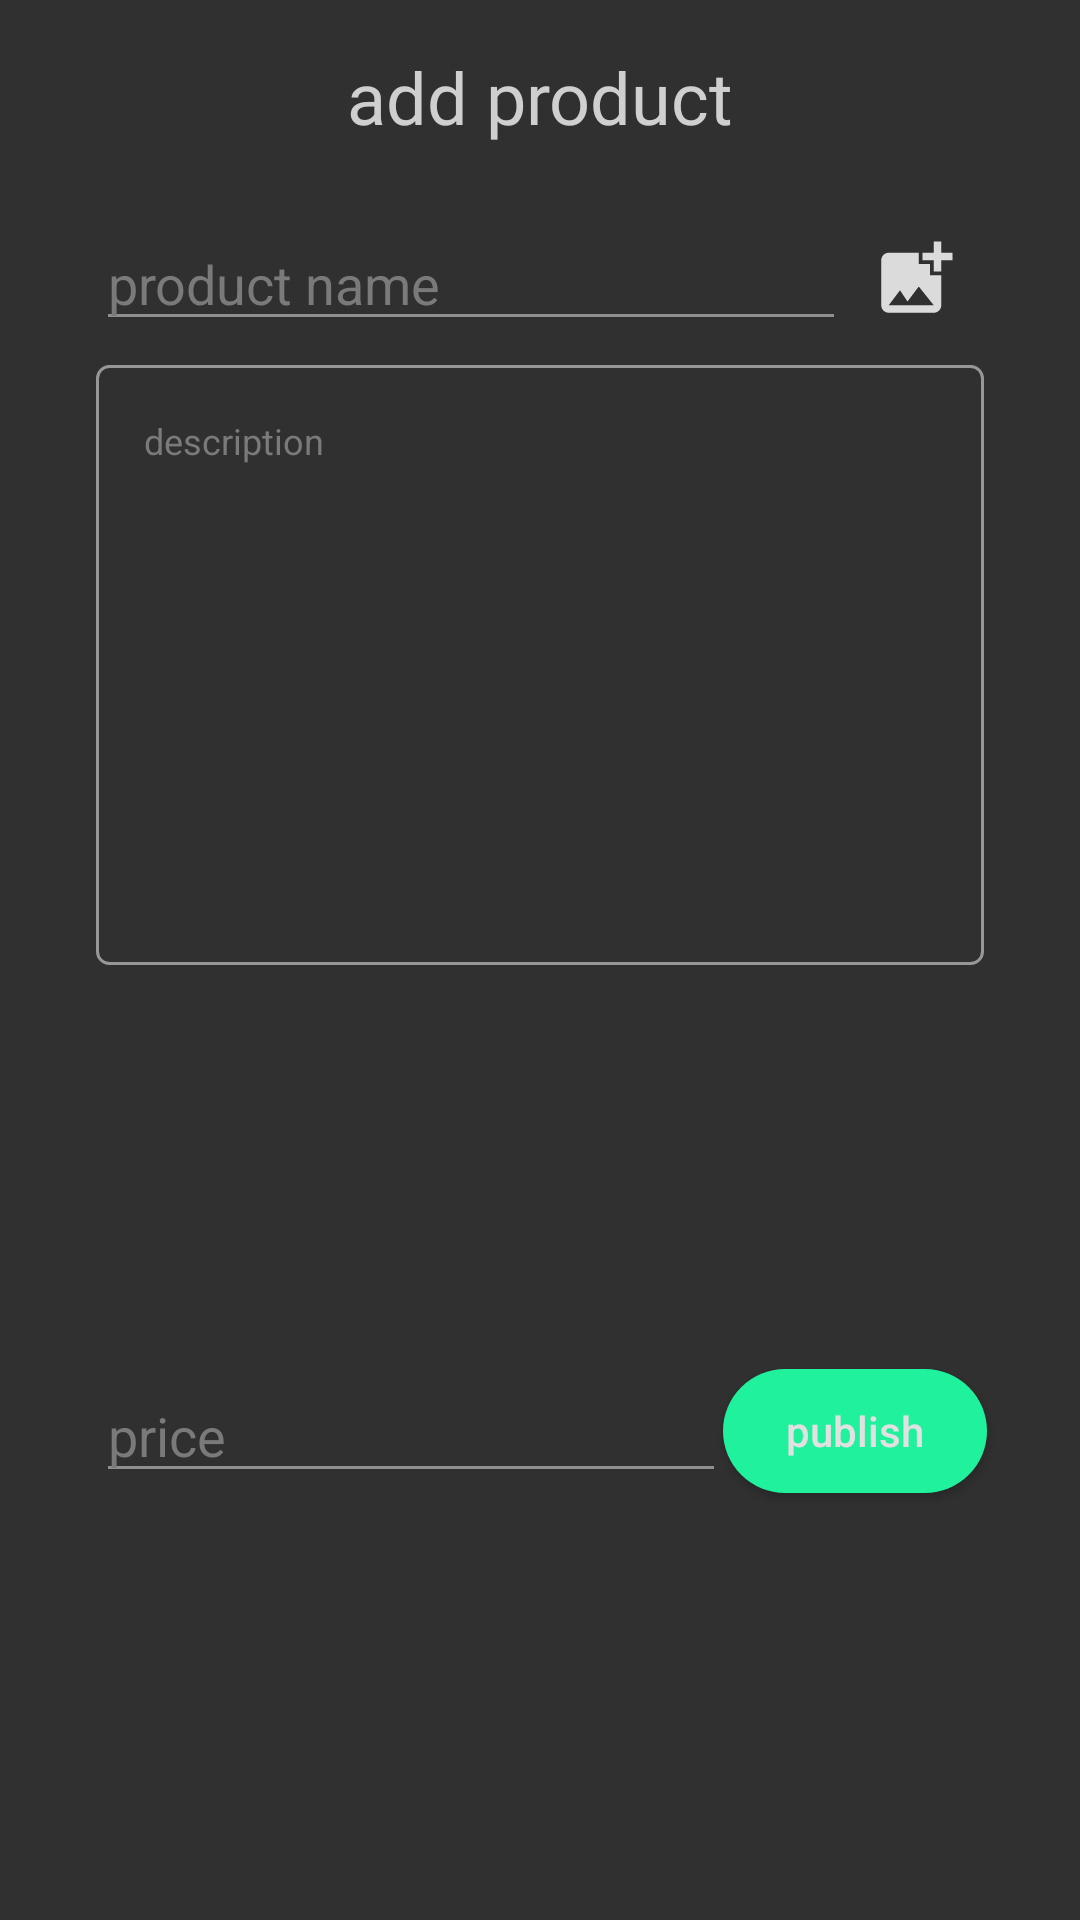

Named icons in this screenshot (1080 x 1920) and their bounding boxes, (x1, y1, x2, y2):
add photo alternate: (881, 241, 953, 313)
